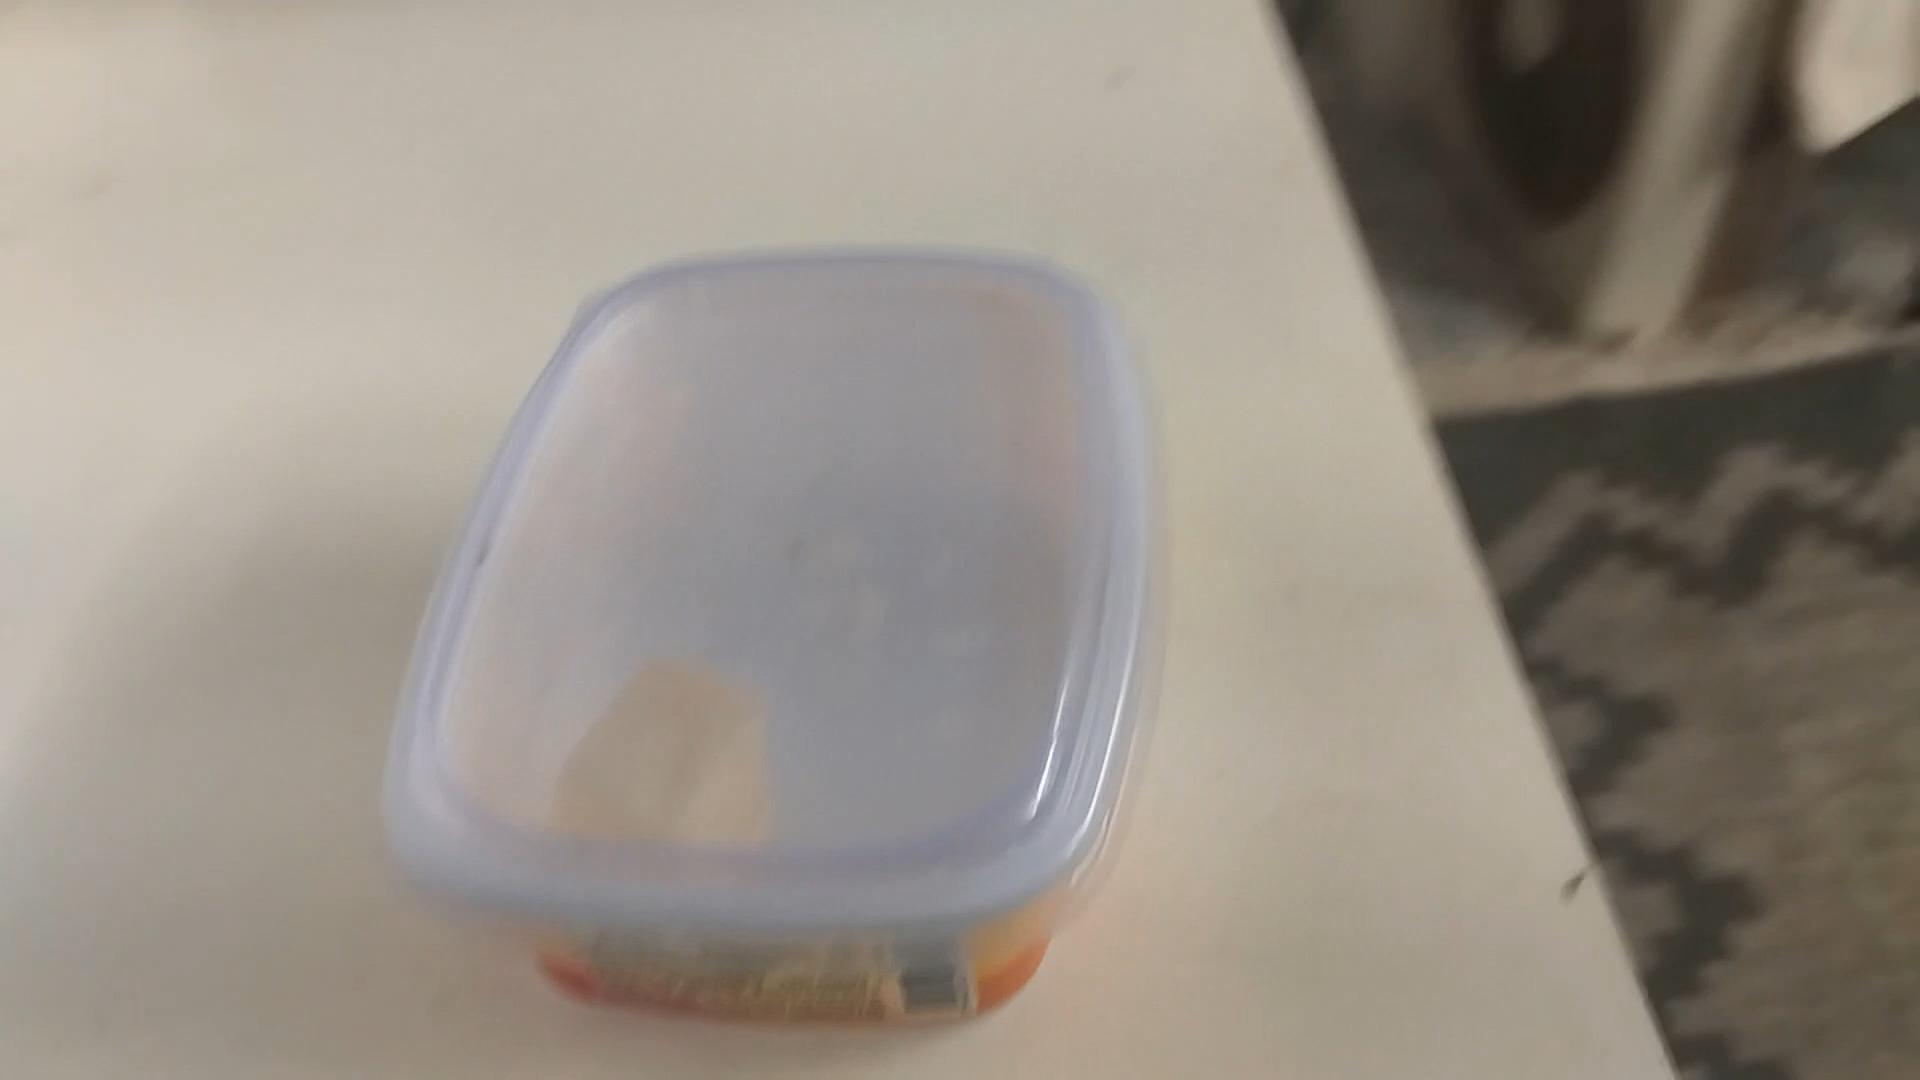butter: (384, 248, 1151, 1031)
